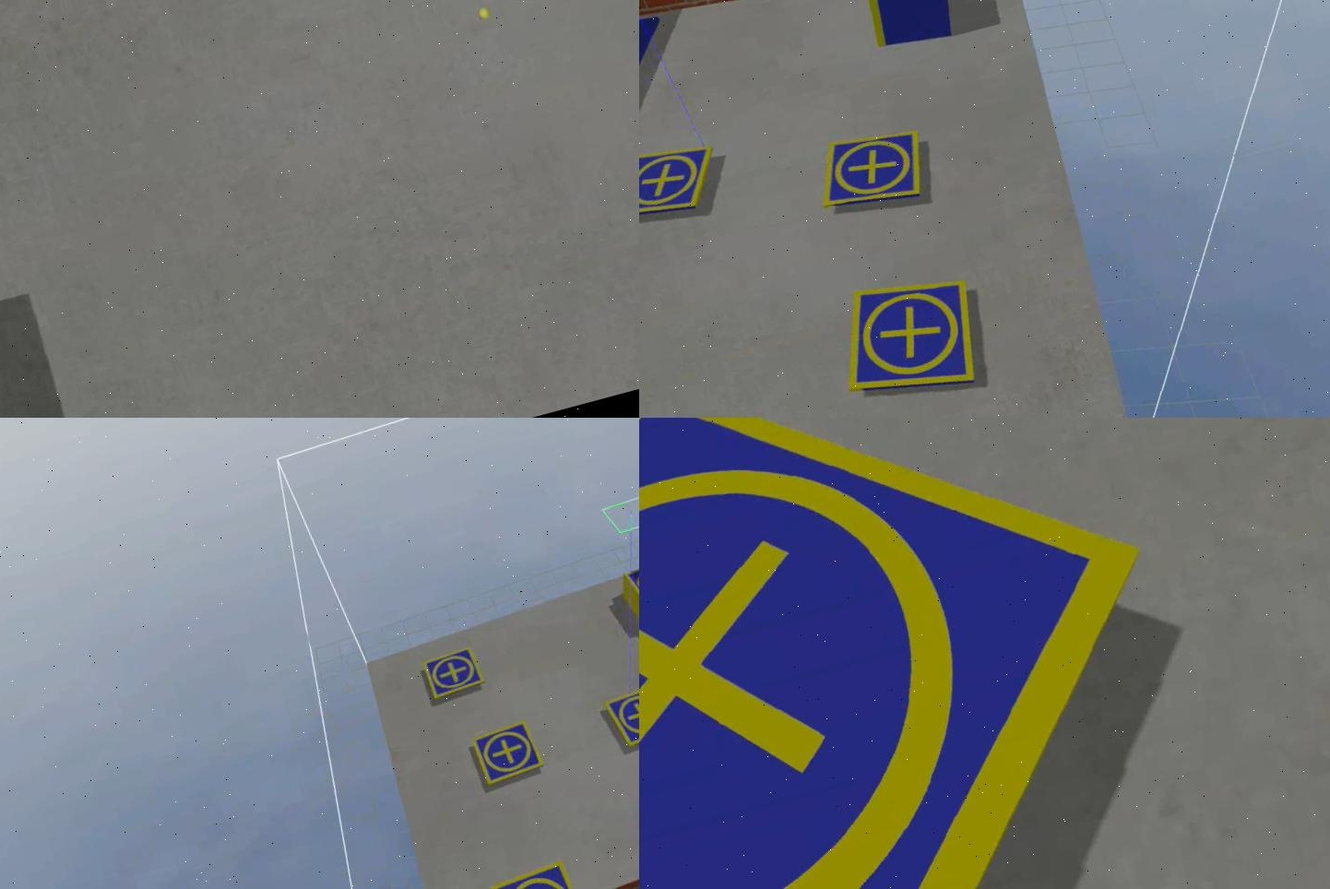large_base: (637, 6, 692, 187)
small_base: (637, 419, 1246, 889), (829, 266, 992, 419), (809, 123, 938, 227), (637, 140, 725, 234), (467, 717, 546, 790), (417, 645, 484, 705), (485, 859, 581, 889), (602, 681, 637, 751), (622, 554, 637, 612)
